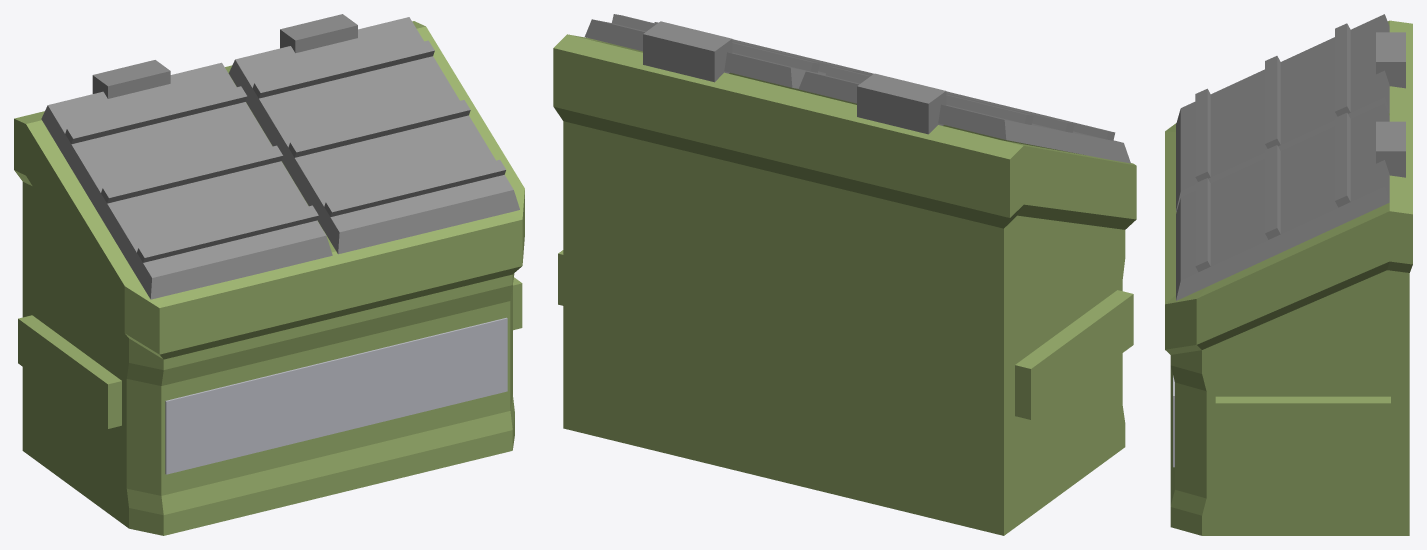
Rendered from TrashContainer.fbx.
The picture shows the model from 3 angles, left to right: view 1: azimuth 30°, elevation 25°; view 2: azimuth 150°, elevation 25°; view 3: azimuth 270°, elevation 25°; orthographic projection. The views are drawn at different scales.
Visible parts, largest first — view 1: TrashContainer.001; view 2: TrashContainer.001; view 3: TrashContainer.001.
Part boxes in pixels (x1,y1,x2,y2): TrashContainer.001: [14, 14, 524, 535]; TrashContainer.001: [553, 14, 1136, 535]; TrashContainer.001: [1165, 14, 1412, 535].
Size of the model in its own units: 2.44 by 2.03 by 1.3.
